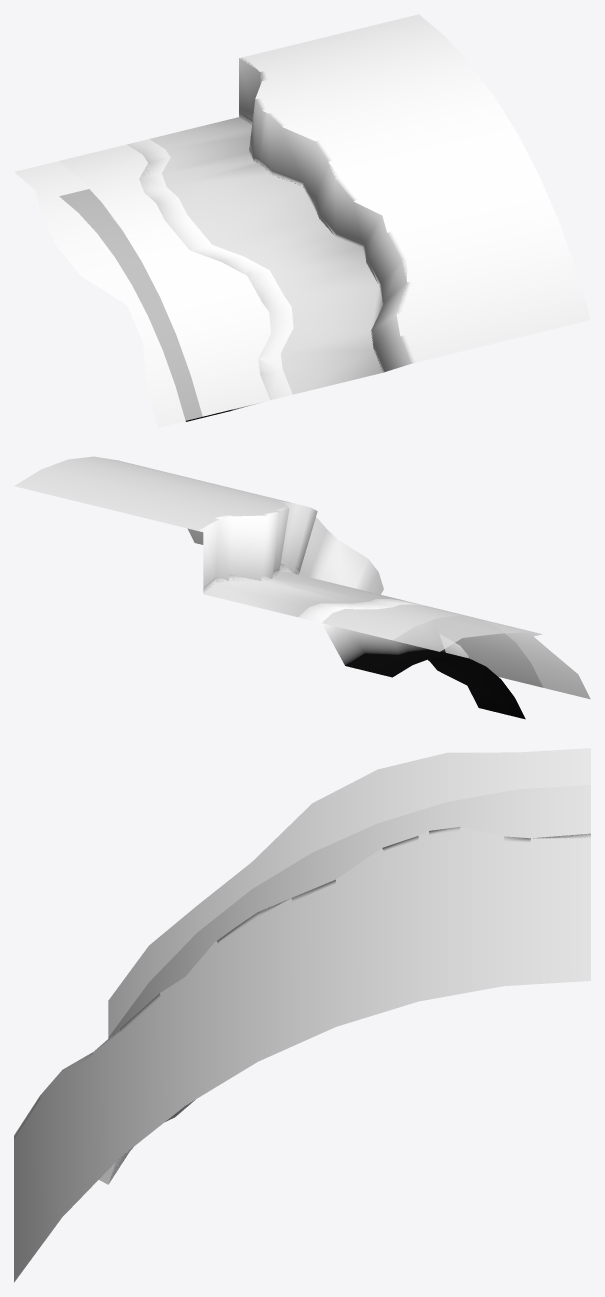
File: grd_Mw_2.dae
The picture shows the model from 3 angles, top to bottom: view 1: azimuth 30°, elevation 25°; view 2: azimuth 150°, elevation 25°; view 3: azimuth 270°, elevation 25°; orthographic projection. The views are drawn at different scales.
Visible parts, largest first — view 1: grass_3_0, beach_0_0, wave_5_0, ocean_4_0, cliff_2_0, beach_1_0; view 2: grass_3_0, cliff_2_0, beach_1_0, wave_5_0, ocean_4_0, beach_0_0; view 3: grass_3_0, wave_5_0, ocean_4_0, cliff_2_0.
Part boxes in pixels (x1=…): grass_3_0: x1=240, y1=14, x2=590, y2=362; beach_0_0: x1=149, y1=111, x2=385, y2=394; wave_5_0: x1=14, y1=150, x2=292, y2=427; ocean_4_0: x1=59, y1=144, x2=270, y2=416; cliff_2_0: x1=239, y1=57, x2=416, y2=371; beach_1_0: x1=60, y1=139, x2=293, y2=421; grass_3_0: x1=14, y1=456, x2=288, y2=544; cliff_2_0: x1=198, y1=501, x2=383, y2=594; beach_1_0: x1=298, y1=599, x2=525, y2=719; wave_5_0: x1=334, y1=601, x2=590, y2=699; ocean_4_0: x1=322, y1=604, x2=543, y2=687; beach_0_0: x1=203, y1=563, x2=403, y2=617; grass_3_0: x1=14, y1=827, x2=590, y2=1282; wave_5_0: x1=108, y1=748, x2=590, y2=1036; ocean_4_0: x1=108, y1=785, x2=590, y2=1038; cliff_2_0: x1=14, y1=826, x2=590, y2=1184.
Bounding box in the file's own units: 606 × 308 × 423.
6 materials, 1 textured.
